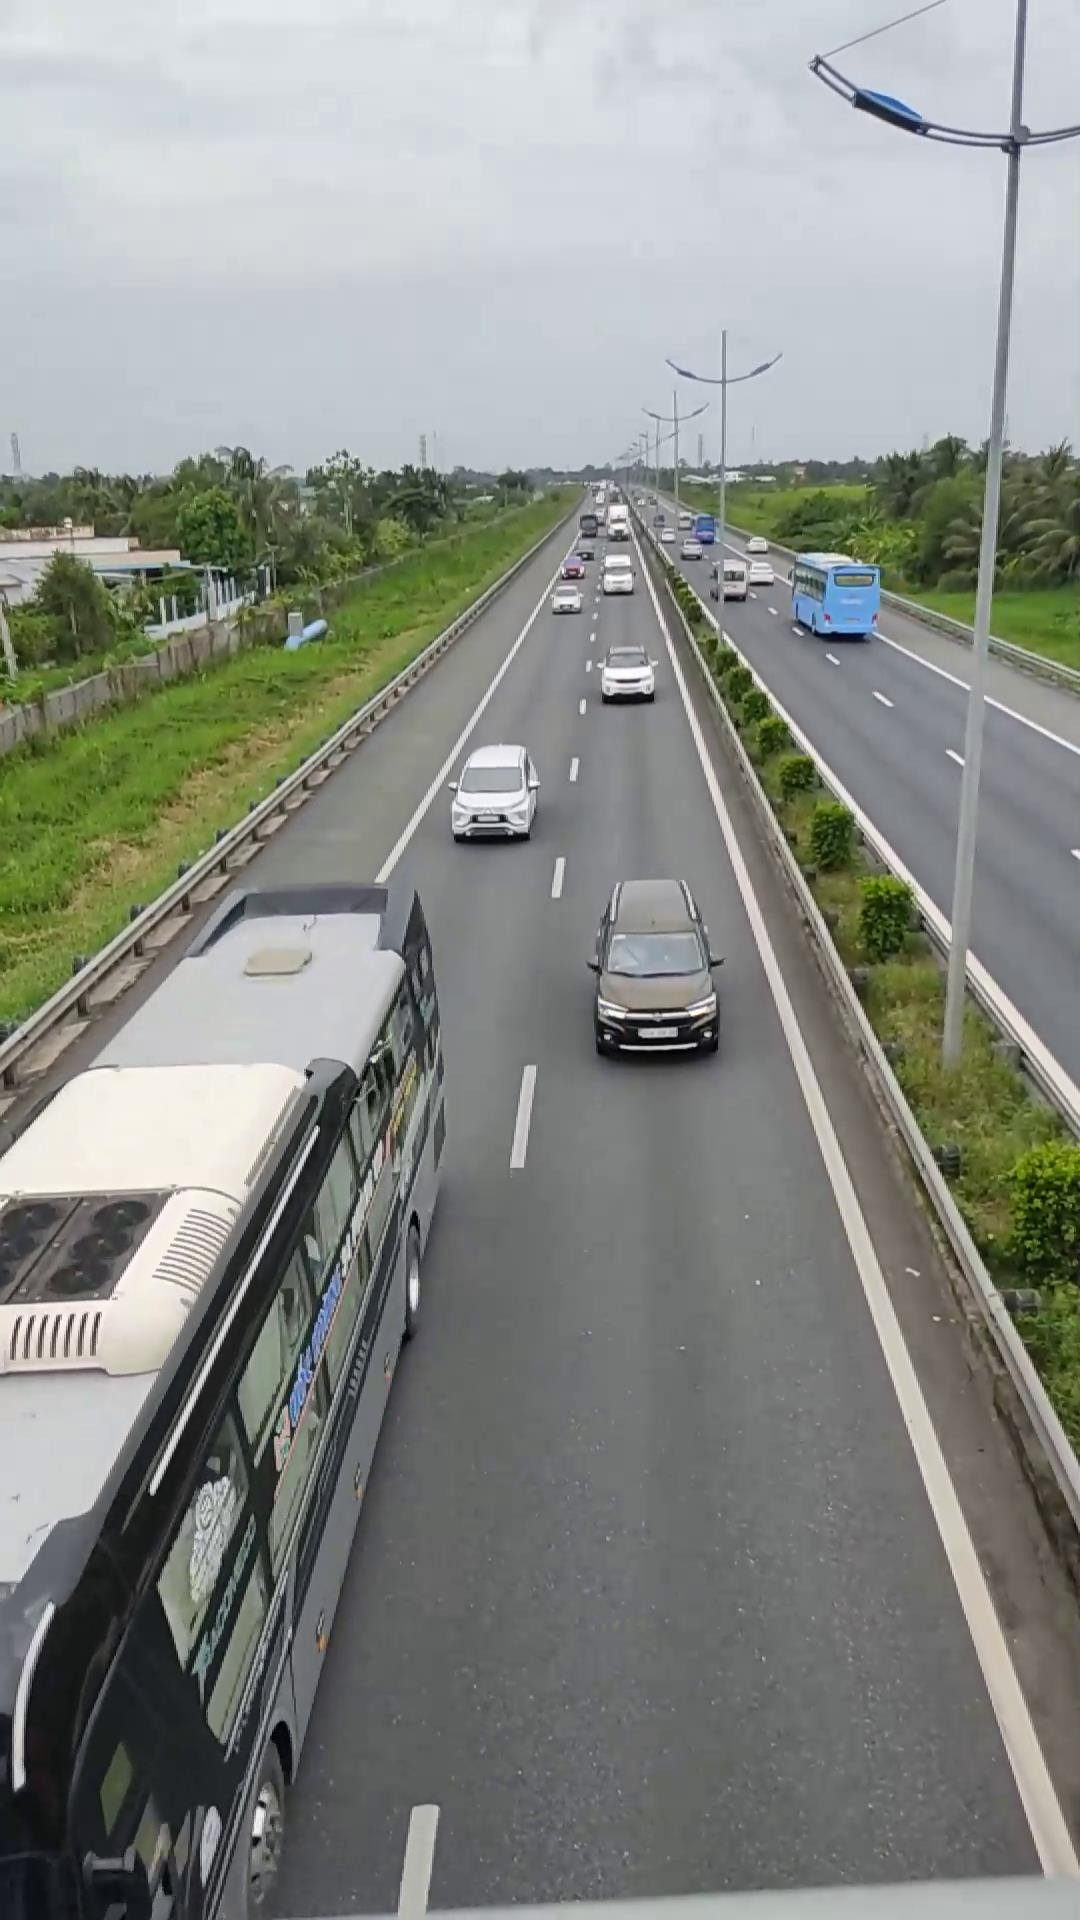bus: (0, 884, 451, 1894)
car: (587, 875, 723, 1055), (448, 742, 540, 842)
